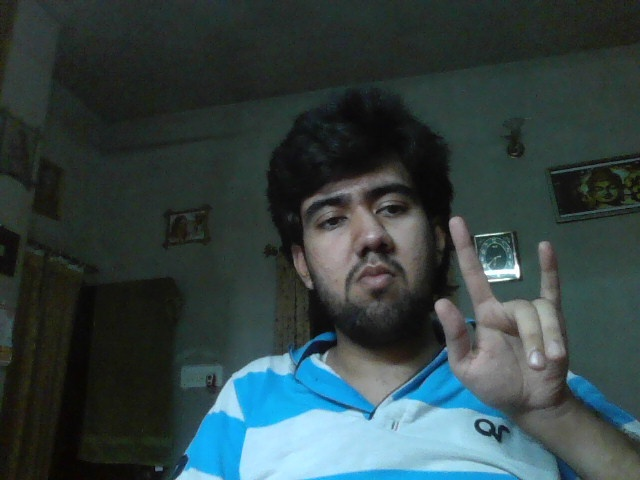ILoveYou: (434, 216, 569, 409)
